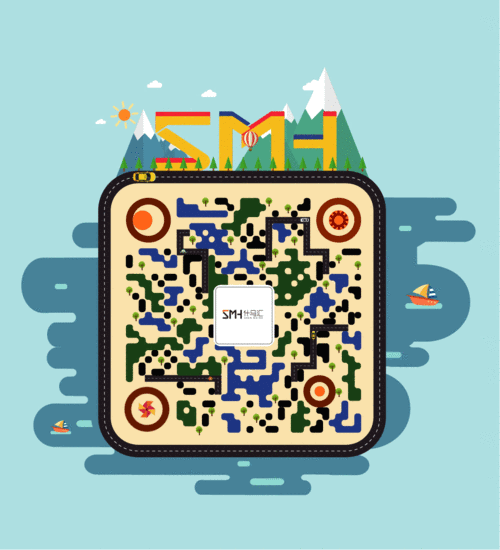QRCode: (119, 190, 369, 437)
